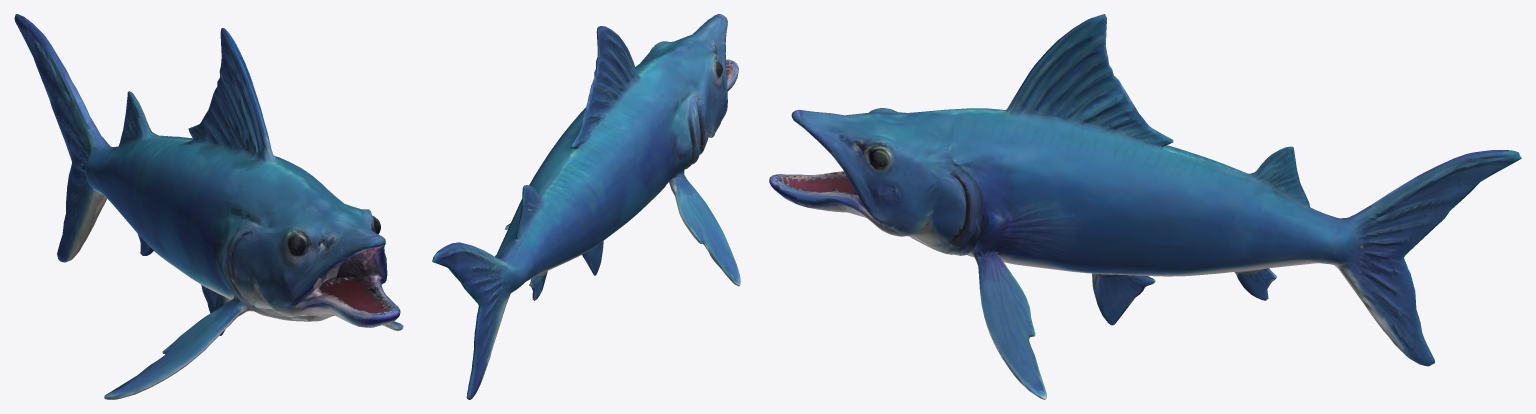
File: spacefish.glb
The picture shows the model from 3 angles, left to right: view 1: azimuth 30°, elevation 25°; view 2: azimuth 150°, elevation 25°; view 3: azimuth 270°, elevation 25°; orthographic projection. The views are drawn at different scales.
Parts seen in each view (by area): view 1: spacefish_body, spacefish_body_low, spacefish_fins, spacefish_fins_low; view 2: spacefish_body, spacefish_body_low, spacefish_fins, spacefish_fins_low; view 3: spacefish_body, spacefish_body_low, spacefish_fins, spacefish_fins_low.
Boxes of the visible parts, box(x1,y1,x2,y2) form: spacefish_body: box(98, 95, 403, 399); spacefish_body_low: box(96, 83, 399, 396); spacefish_fins: box(14, 14, 260, 308); spacefish_fins_low: box(14, 17, 255, 312); spacefish_body: box(505, 14, 740, 285); spacefish_body_low: box(497, 15, 739, 288); spacefish_fins: box(432, 26, 630, 399); spacefish_fins_low: box(433, 26, 628, 395); spacefish_body: box(769, 63, 1308, 399); spacefish_body_low: box(769, 42, 1321, 398); spacefish_fins: box(1033, 14, 1521, 366); spacefish_fins_low: box(1037, 22, 1520, 365).
Size of the model in its own units: 0.9103 by 1.03 by 2.
2 materials, 2 textured.
